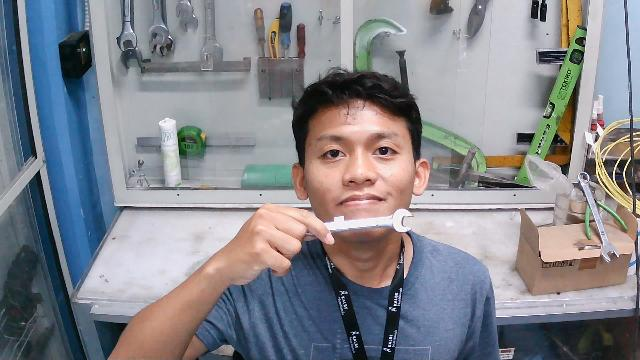kunci_pass_13: (290, 199, 426, 250)
